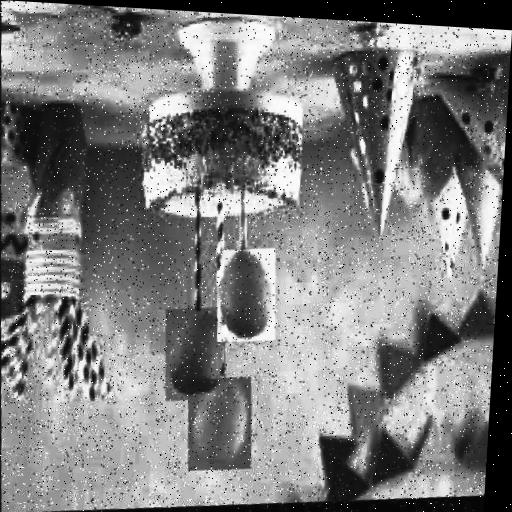balloon: (177, 377, 249, 477), (156, 307, 224, 407), (208, 250, 275, 349)
